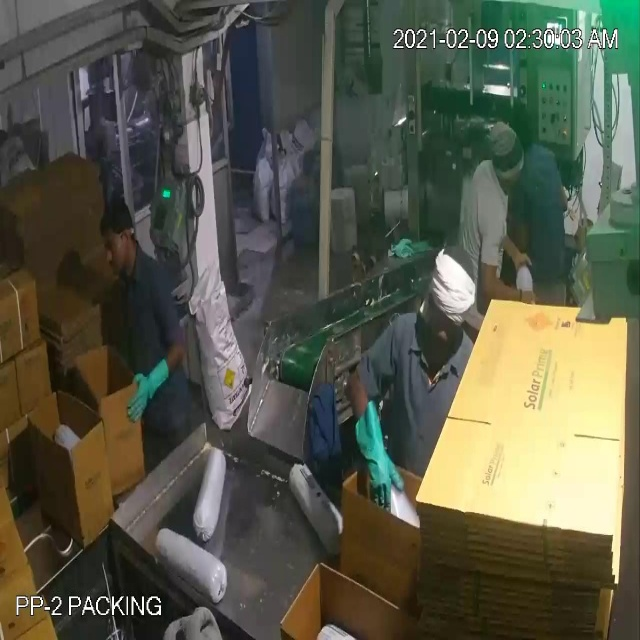Guantes: (350, 393, 410, 519), (127, 342, 176, 427)
Sin_guantes: (473, 253, 541, 308), (497, 228, 542, 282)
